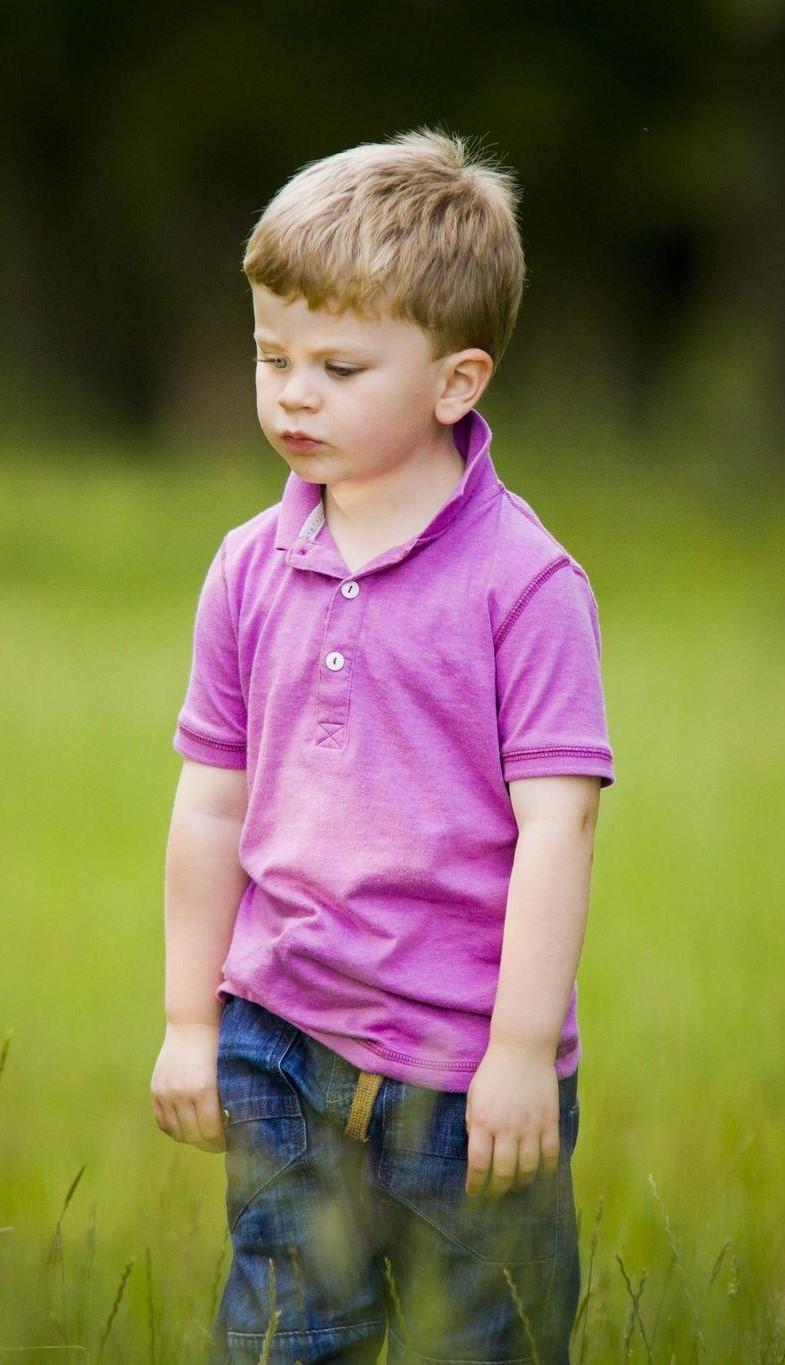Healthy: (212, 232, 502, 516)
